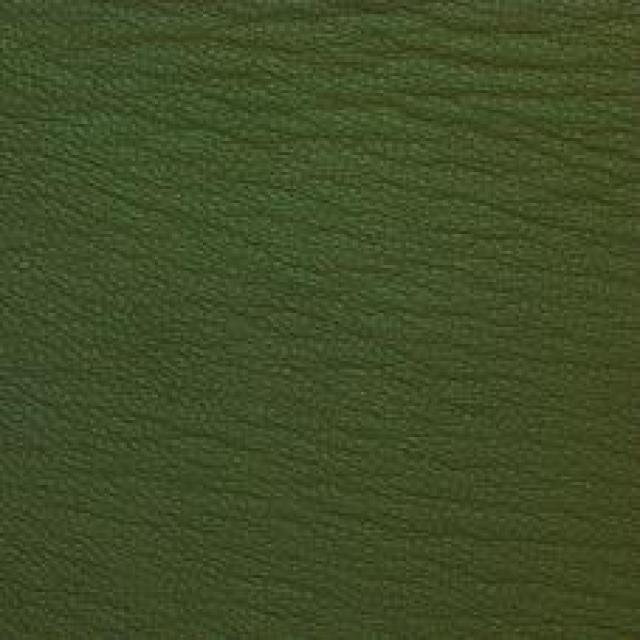Growth Marks: (226, 23, 592, 184), (256, 267, 592, 412)
